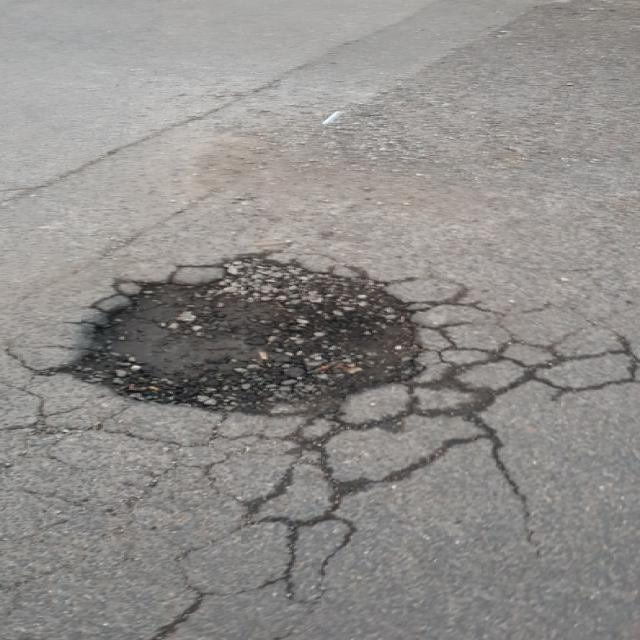pothole: (48, 246, 440, 424)
